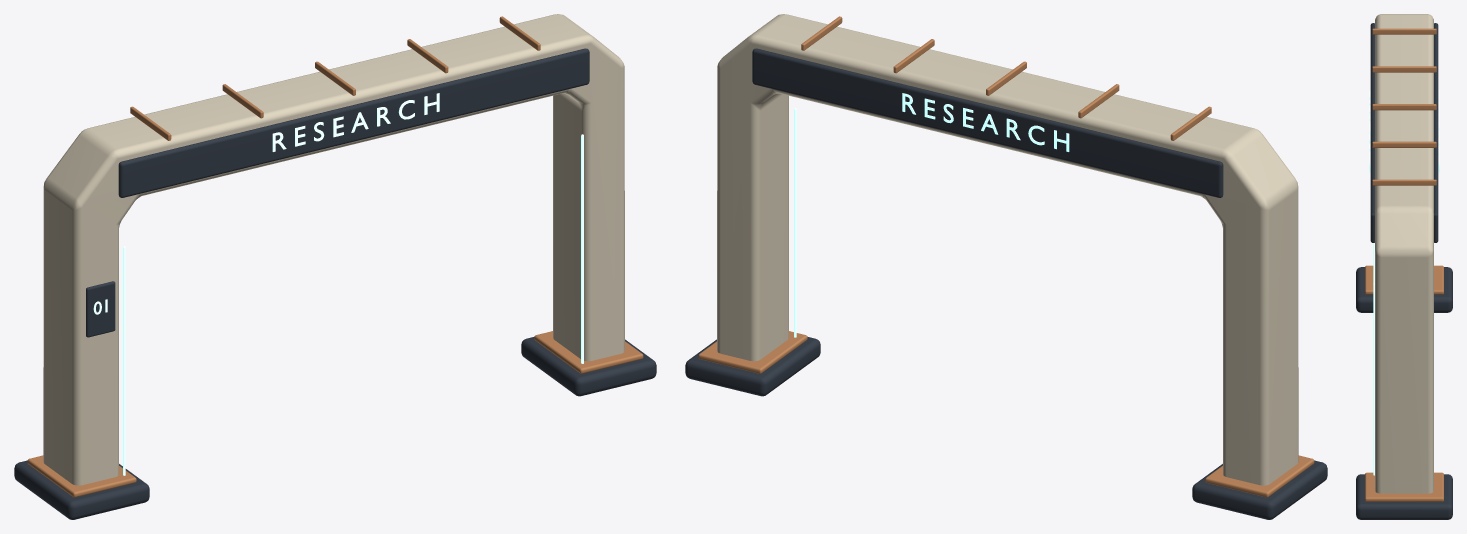
Rendered from research-gateway.glb.
3 renders of one model, left to right at view 1: azimuth 30°, elevation 25°; view 2: azimuth 150°, elevation 25°; view 3: azimuth 270°, elevation 25°, orthographic. The views are drawn at different scales.
Visible parts, largest first — view 1: Gateway / warm limestone, Gateway / ink ceramic, Gateway / brushed copper, Gateway / mint inlay; view 2: Gateway / warm limestone, Gateway / ink ceramic, Gateway / brushed copper, Gateway / mint inlay; view 3: Gateway / warm limestone, Gateway / ink ceramic, Gateway / brushed copper, Gateway / mint inlay.
Part boxes in pixels (left/top/right/bottom): Gateway / warm limestone: left=43, top=14, right=624, bottom=485; Gateway / ink ceramic: left=14, top=48, right=656, bottom=519; Gateway / brushed copper: left=27, top=16, right=643, bottom=497; Gateway / mint inlay: left=93, top=93, right=583, bottom=475; Gateway / warm limestone: left=717, top=14, right=1298, bottom=485; Gateway / ink ceramic: left=685, top=48, right=1327, bottom=519; Gateway / brushed copper: left=698, top=16, right=1314, bottom=497; Gateway / mint inlay: left=794, top=93, right=1069, bottom=337; Gateway / warm limestone: left=1375, top=14, right=1433, bottom=493; Gateway / ink ceramic: left=1356, top=23, right=1452, bottom=519; Gateway / brushed copper: left=1365, top=28, right=1443, bottom=501; Gateway / mint inlay: left=1369, top=89, right=1439, bottom=475.
Size of the model in its own units: 11.15 by 6.42 by 1.9.
